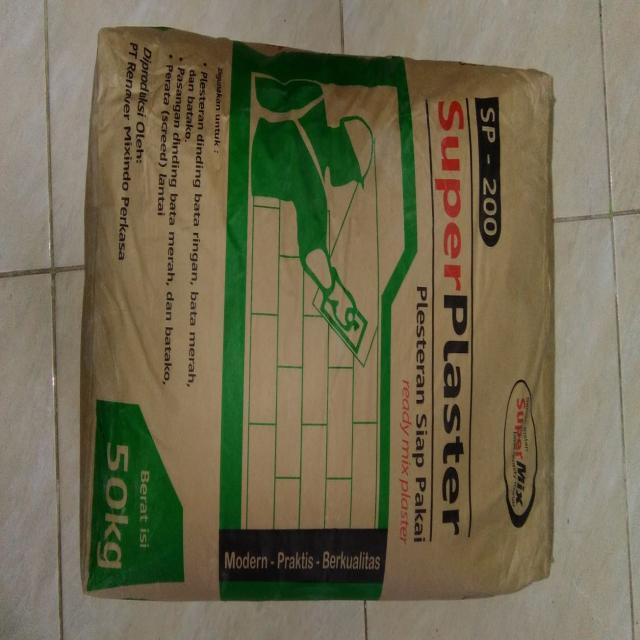KantongSemen: (78, 13, 557, 606)
